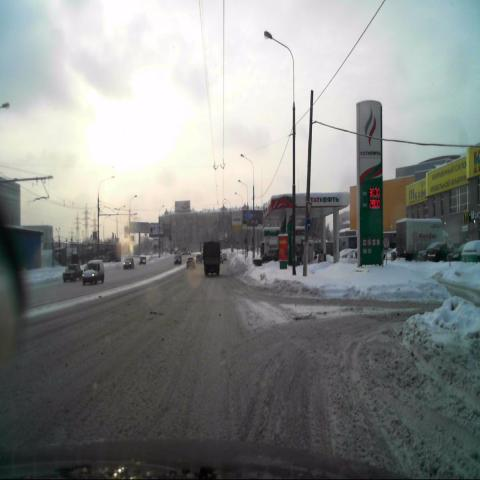2_4: (306, 199, 313, 216)
